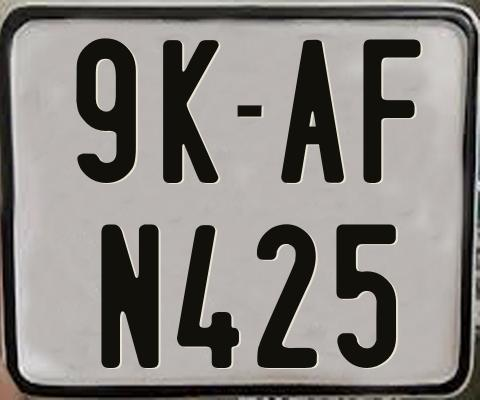2: (257, 221, 318, 369)
4: (175, 223, 241, 372)
5: (335, 222, 395, 369)
9: (73, 38, 134, 183)
A: (278, 37, 345, 182)
F: (360, 36, 420, 181)
K: (161, 38, 220, 183)
N: (99, 221, 159, 369)
